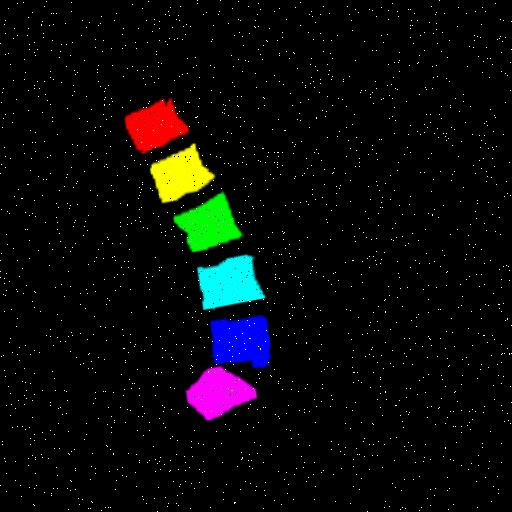L1: (126, 99, 189, 151)
L2: (153, 144, 216, 203)
L3: (175, 193, 243, 252)
L4: (199, 256, 267, 310)
L5: (212, 316, 272, 368)
S1: (188, 367, 260, 420)
